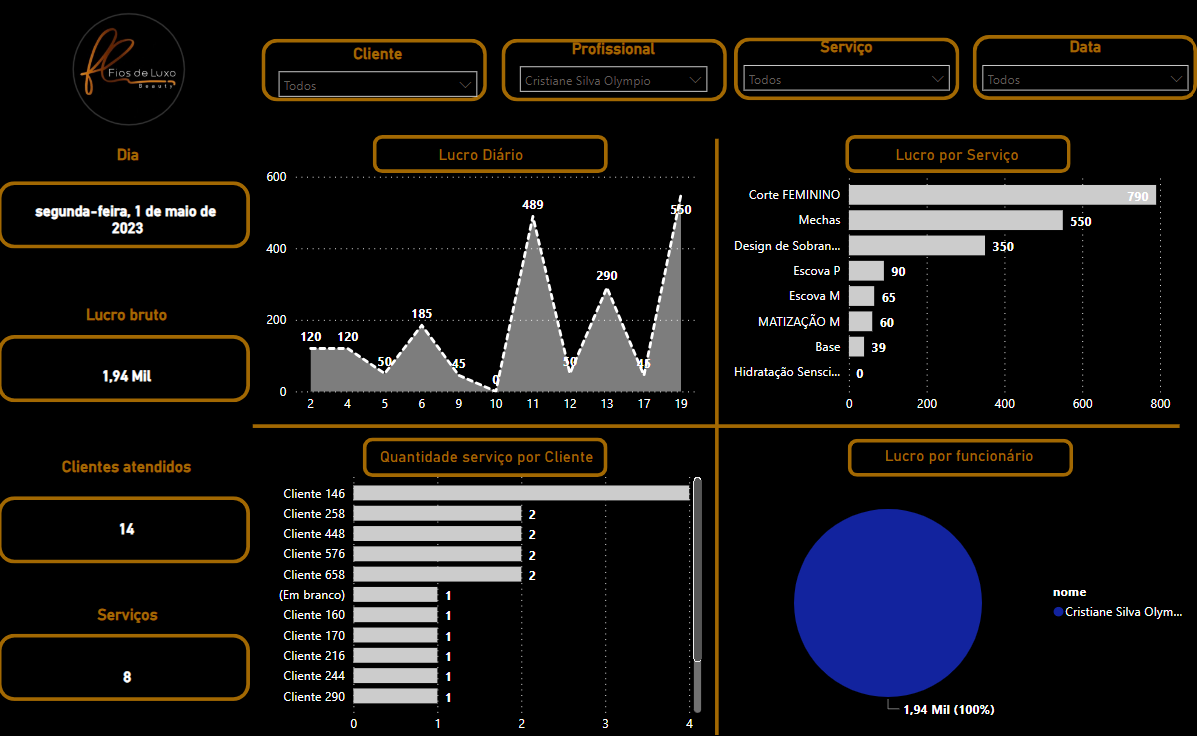

Layout of this report page (visuals, bound fields, positions):
{"tool":"powerbi","page":{"name":"Overview","canvas":[1300,800],"ordinal":0},"visuals":[{"type":"shape","box":[1049.2,42.9,241.2,69.7],"z":0},{"type":"shape","box":[793.3,45.6,241.2,67],"z":1000},{"type":"shape","box":[544.1,46.9,241.2,67],"z":2000},{"type":"shape","box":[286.8,46.9,241.2,67],"z":3000},{"type":"slicer","title":"Serviço","fields":{"Values":["d_servico.nome"]},"box":[793.3,45.6,241.2,64.3],"z":4000},{"type":"slicer","title":"Cliente","fields":{"Values":["d_cliente.nome"]},"box":[294.8,52.3,233.2,61.6],"z":5000},{"type":"slicer","title":"Profissional","fields":{"Values":["d_funcionario.nome"]},"box":[553.4,46.9,221.1,64.3],"z":6000},{"type":"pieChart","title":"Lucro por funcionário","fields":{"Category":["d_funcionario.nome"],"Y":["Sum(fato_pagamento.valor_pago)"]},"box":[777.8,483.3,515,317.1],"z":7000},{"type":"card","title":"Lucro bruto","fields":{"Values":["Sum(fato_pagamento.valor_pago)"]},"box":[17.4,332.3,249.2,135.3],"z":8000},{"type":"slicer","title":"Data","fields":{"Values":["d_agenda.data"]},"box":[1049.2,45.6,241.2,64.3],"z":9000},{"type":"clusteredBarChart","title":"Lucro por Serviço","fields":{"Category":["d_servico.nome"],"Y":["Sum(fato_pagamento.valor_pago)"]},"box":[774.5,160.8,515.9,296.1],"z":10000},{"type":"card","title":"Dia","fields":{"Values":["Min(d_agenda.data)"]},"box":[18.8,160.8,249.2,142],"z":11000},{"type":"card","title":"Clientes atendidos","fields":{"Values":["Count(fato_pagamento.id_cliente)"]},"box":[17.4,495.8,249.2,135.3],"z":12000},{"type":"card","title":"Serviços ","fields":{"Values":["Count(fato_pagamento.id_servico)"]},"box":[19,653.3,248.6,135.8],"z":13000},{"type":"areaChart","title":"Lucro Diário","fields":{"Category":["d_agenda.data.Variation.Hierarquia de datas.Dia"],"Y":["Sum(fato_pagamento.valor_pago)"]},"box":[286.8,160.8,470.4,296.1],"z":14000},{"type":"barChart","title":"Quantidade serviço por Cliente","fields":{"Category":["d_cliente.nome"],"Y":["CountNonNull(fato_pagamento.id_cliente)"]},"box":[293,484.8,469.7,315.6],"z":15000},{"type":"image","box":[33.5,0,219.8,160.8],"z":16000},{"type":"shape","box":[4,199.7,270.7,72.4],"z":17000},{"type":"shape","box":[4,364.5,270.7,72.4],"z":18000},{"type":"shape","box":[4,684.8,270.7,72.4],"z":19000},{"type":"shape","box":[4,537.4,270.7,72.4],"z":20000},{"type":"shape","box":[277.9,457.6,993.7,10.6],"z":21000},{"type":"shape","box":[770.2,154,9.1,638.8],"z":22000},{"type":"shape","box":[912.2,149.5,241.6,40.8],"z":23000},{"type":"shape","box":[915.2,475.7,241.6,40.8],"z":24000},{"type":"shape","box":[406.3,149.5,252.2,40.8],"z":25000},{"type":"shape","box":[395.7,474.2,262.8,42.3],"z":26000}]}

Visuals, with their boxes in screenshot pixels (x1, y1, x2, y2), scaled from the page's 1300x800 canvas onto the 1197x736 screenshot:
shape: 966:39:1188:104
shape: 730:42:953:104
shape: 501:43:723:105
shape: 264:43:486:105
"Serviço" slicer: 730:42:953:101
"Cliente" slicer: 271:48:486:105
"Profissional" slicer: 510:43:713:102
"Lucro por funcionário" pieChart: 716:445:1190:735
"Lucro bruto" card: 16:306:245:430
"Data" slicer: 966:42:1188:101
"Lucro por Serviço" clusteredBarChart: 713:148:1188:420
"Dia" card: 17:148:247:279
"Clientes atendidos" card: 16:456:245:581
"Serviços " card: 17:601:246:726
"Lucro Diário" areaChart: 264:148:697:420
"Quantidade serviço por Cliente" barChart: 270:446:702:735
image: 31:0:233:148
shape: 4:184:253:250
shape: 4:335:253:402
shape: 4:630:253:697
shape: 4:494:253:561
shape: 256:421:1171:431
shape: 709:142:718:729
shape: 840:138:1062:175
shape: 843:438:1065:475
shape: 374:138:606:175
shape: 364:436:606:475
